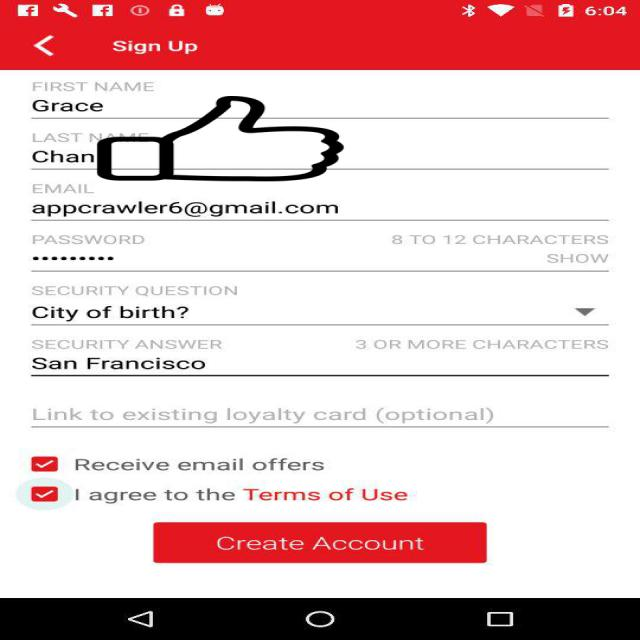privacy zuckering: (94, 96, 347, 181)
